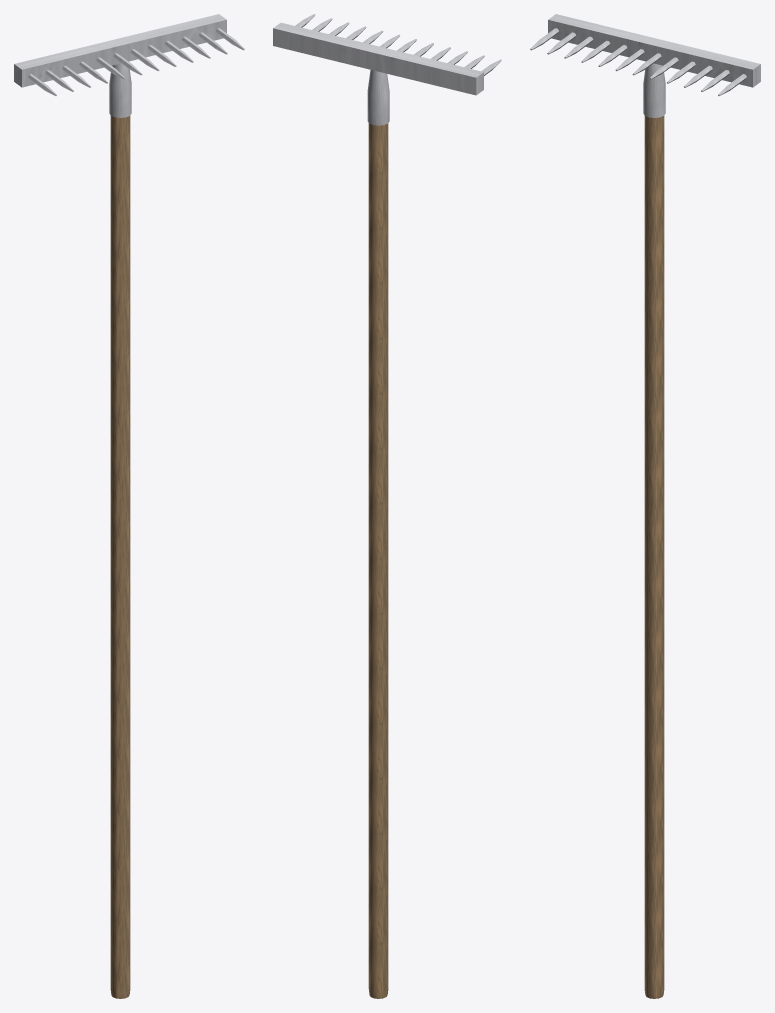
File: rake.glb
3 renders of one model, left to right at view 1: azimuth 30°, elevation 25°; view 2: azimuth 150°, elevation 25°; view 3: azimuth 330°, elevation 25°, orthographic.
Visible parts, largest first — view 1: OUT; view 2: OUT; view 3: OUT.
Part boxes in pixels (<box>): OUT: <box>14,14,244,998</box>; OUT: <box>273,14,501,998</box>; OUT: <box>530,14,760,998</box>.
Size of the model in its own units: 0.36 by 1.6 by 0.107.
Materials: 2 (2 with a texture image).
